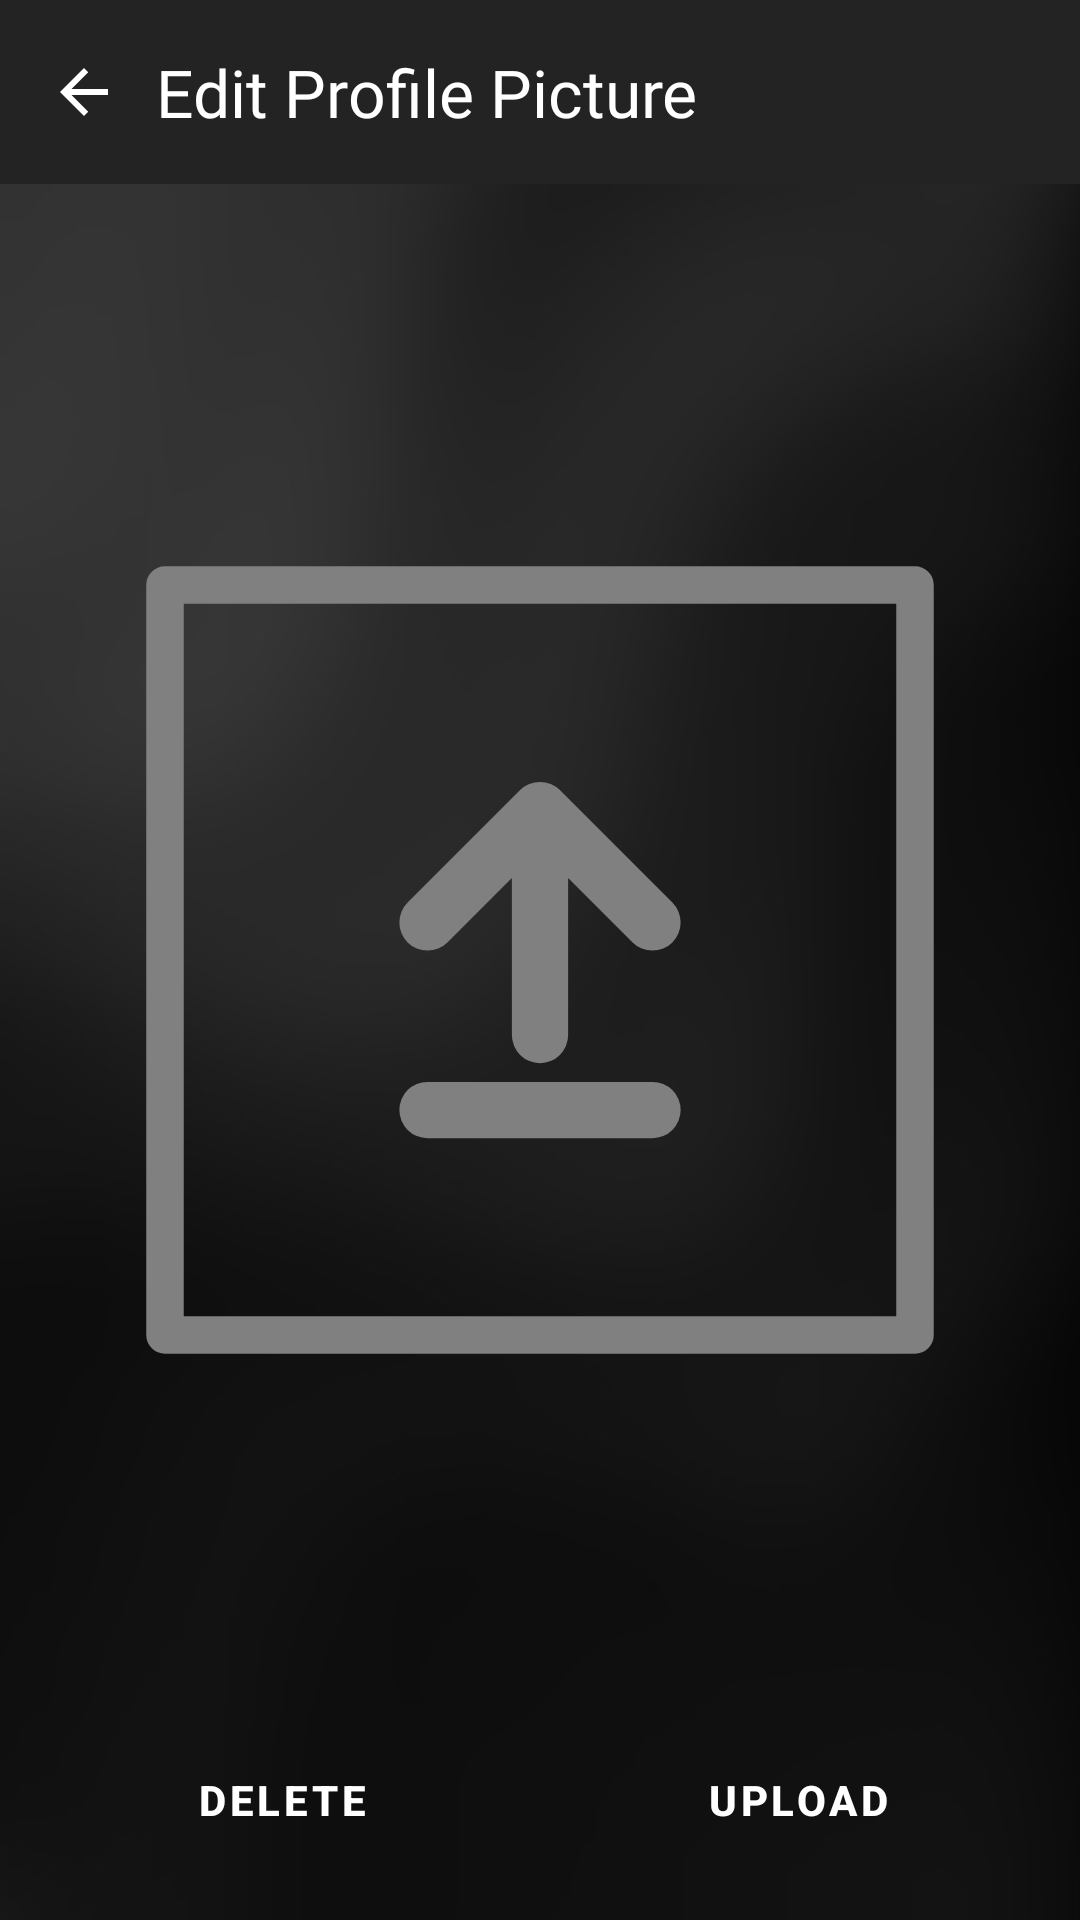

Icon click points for this 1080 × 1920 phone screenshot, format (x=x, y=y):
Back Button: (x=84, y=92)
